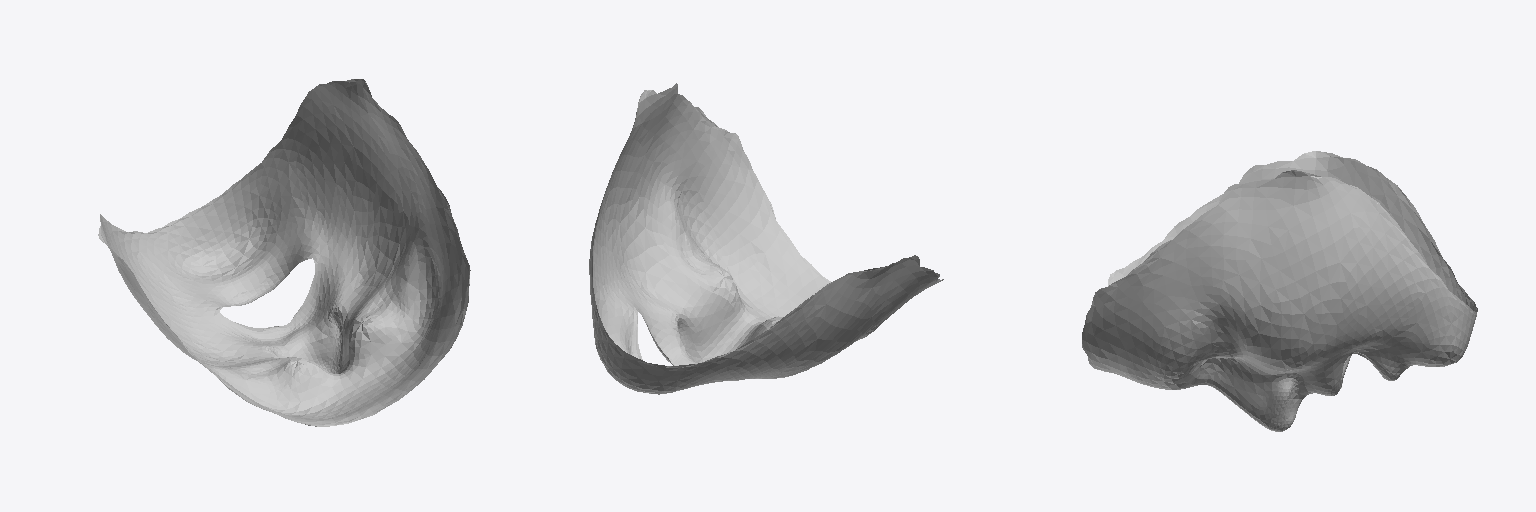
File: face_gab_sfm84.obj
The picture shows the model from 3 angles: view 1: azimuth 30°, elevation 25°; view 2: azimuth 150°, elevation 25°; view 3: azimuth 270°, elevation 25°; orthographic projection.
Bounding box in the file's own units: 166 × 163 × 205.